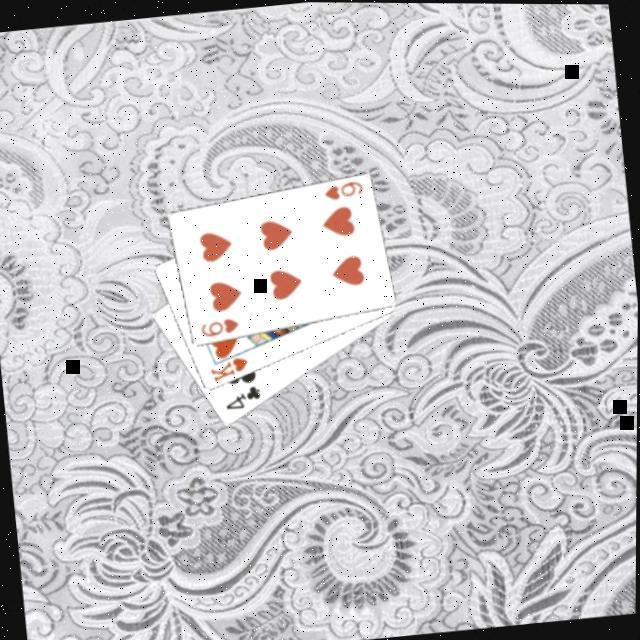4C: (222, 382, 267, 414)
6H: (198, 316, 244, 342), (322, 178, 368, 204)
KH: (208, 355, 254, 387)
